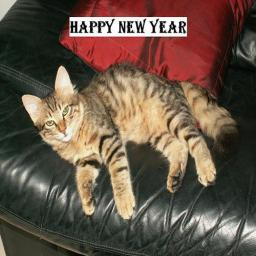catnose: (58, 126, 68, 136)
